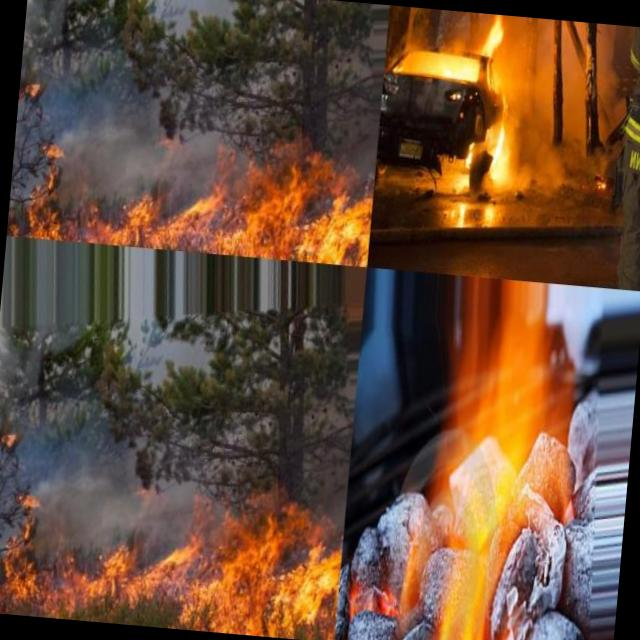fire: (393, 272, 584, 640), (48, 481, 345, 640), (74, 130, 368, 266), (0, 485, 49, 599), (23, 135, 74, 241), (476, 90, 527, 188), (468, 12, 514, 72), (20, 73, 46, 111), (0, 423, 21, 461)
